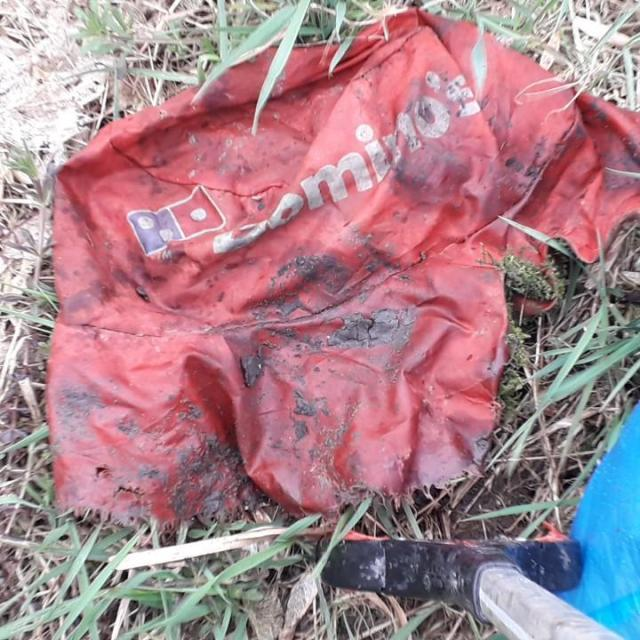Paper: (44, 7, 638, 534)
